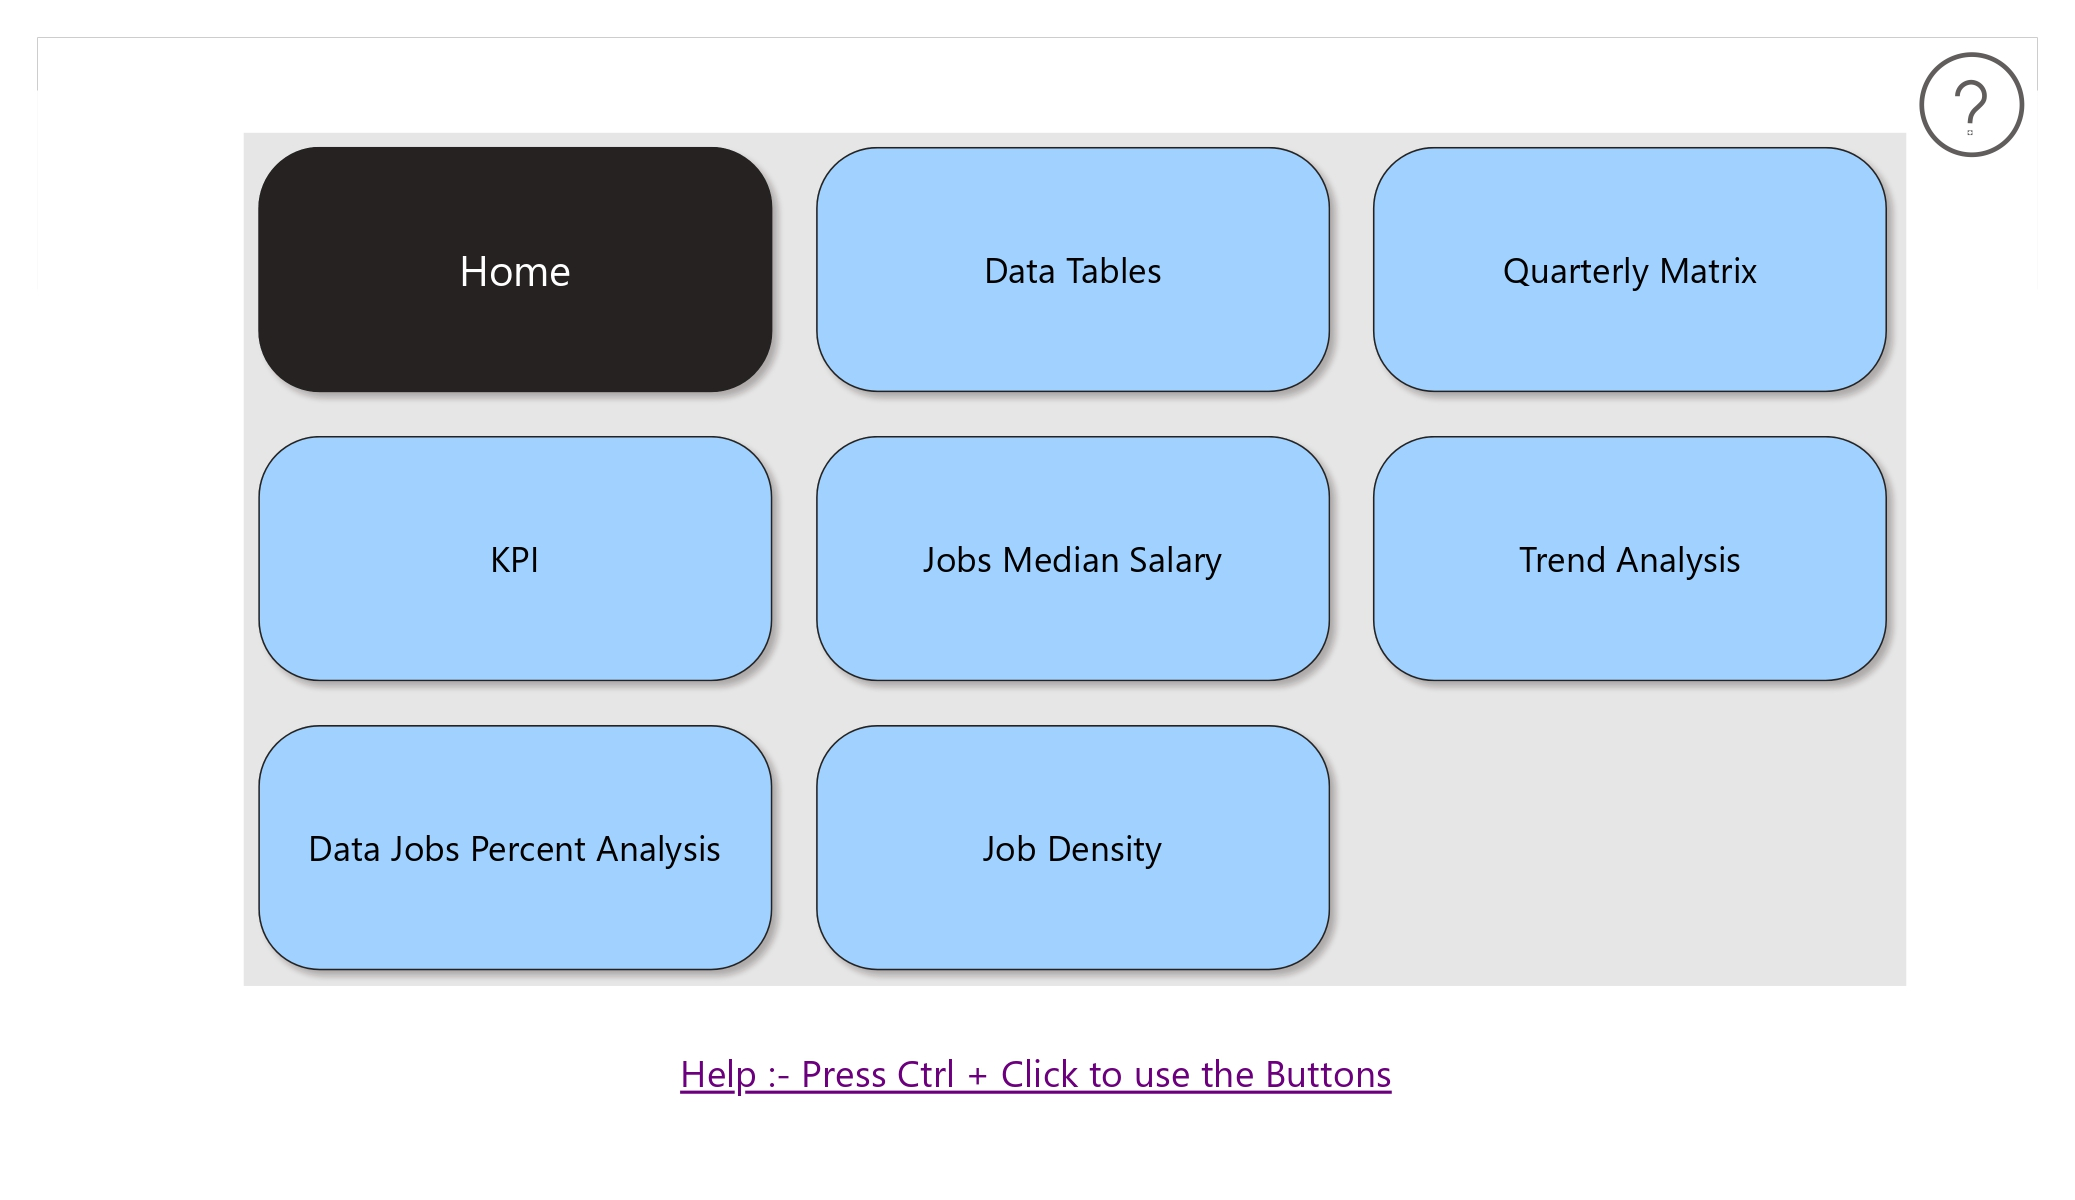

Layout of this report page (visuals, bound fields, positions):
{"tool":"powerbi","page":{"name":"Home","canvas":[1280,720],"ordinal":0},"visuals":[{"type":"pageNavigator","box":[132.1,61.1,1063.9,545.4],"z":0},{"type":"actionButton","box":[1195.9,0,84.4,85.6],"z":1000},{"type":"textbox","box":[229.9,640.8,818.1,46.5],"z":2000}]}

Visuals, with their boxes on the page's 1280x720 design canvas (x1, y1, x2, y2). These are canvas units, not pixel positions in the 2075x1200 screenshot, which may show the page scaled, cropped or inside an application window:
pageNavigator: (left=132, top=61, right=1196, bottom=606)
actionButton: (left=1196, top=0, right=1280, bottom=86)
textbox: (left=230, top=641, right=1048, bottom=687)
